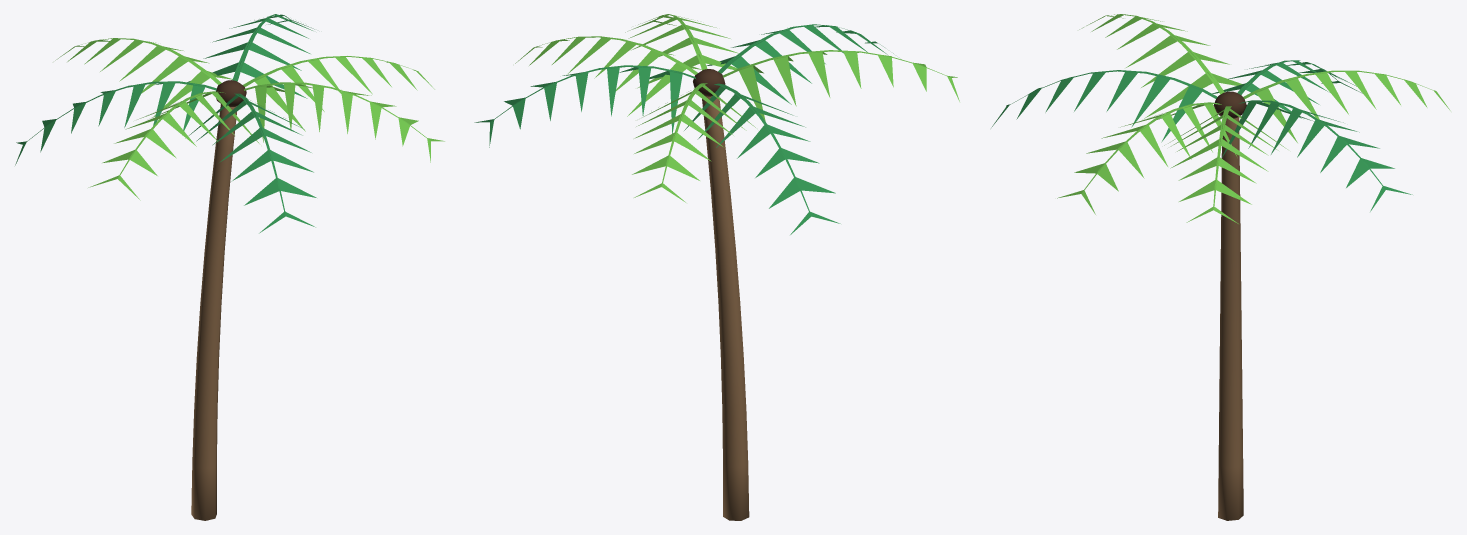
The model's file is jungle_palm_far.glb.
The picture shows the model from 3 angles, left to right: view 1: azimuth 30°, elevation 25°; view 2: azimuth 150°, elevation 25°; view 3: azimuth 270°, elevation 25°; orthographic projection. The views are drawn at different scales.
Visible parts, largest first — view 1: PalmFar; view 2: PalmFar; view 3: PalmFar.
Boxes of the visible parts, x1,y1,x2,y2 form: PalmFar: (15, 14, 444, 520); PalmFar: (474, 14, 959, 520); PalmFar: (991, 14, 1450, 520).
Size of the model in its own units: 8.66 by 9.65 by 8.93.
